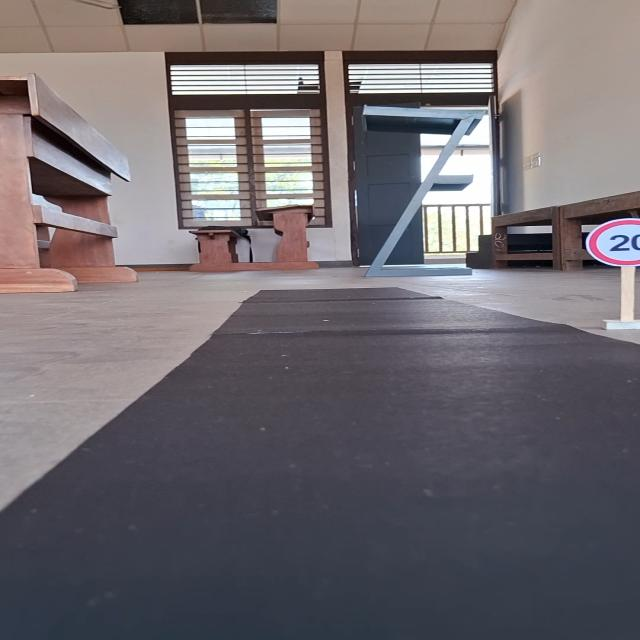Speed20: (581, 213, 640, 269)
